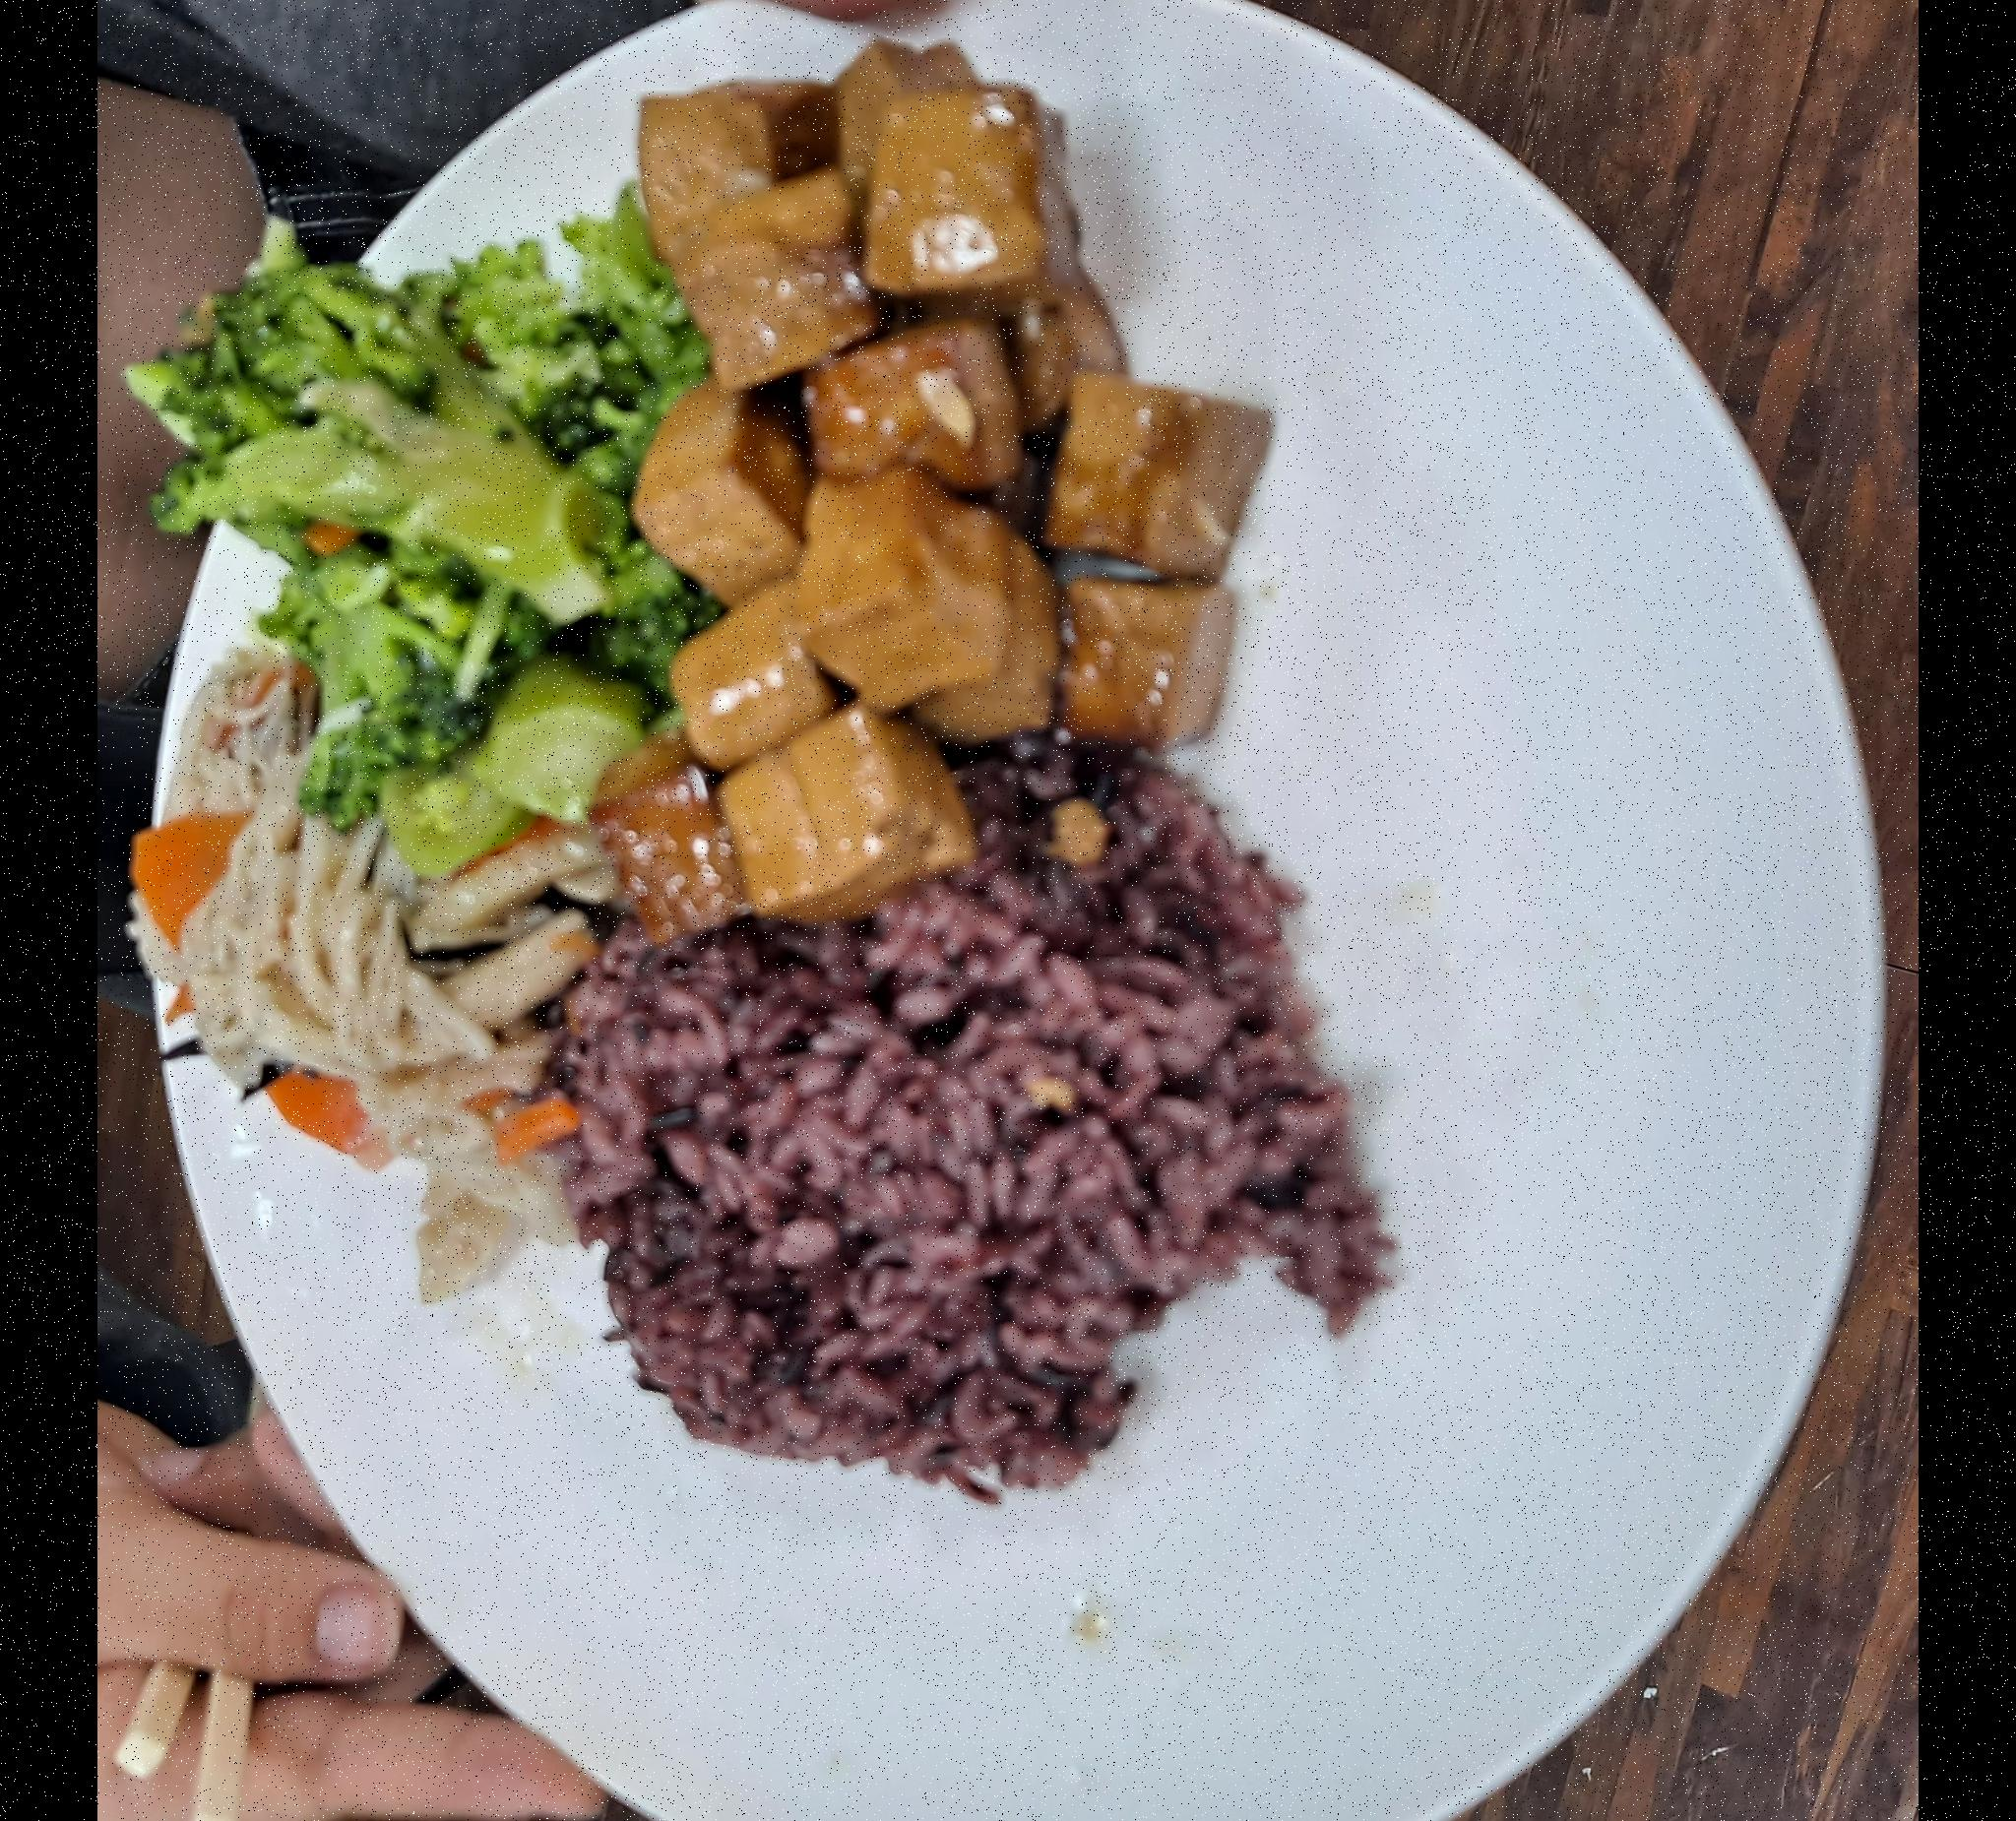big fried chicken leg: (128, 0, 1888, 1821)
braised fish: (580, 762, 1398, 1489)
braised fish fillet: (597, 28, 1275, 948), (146, 212, 692, 843), (162, 641, 588, 1285)
